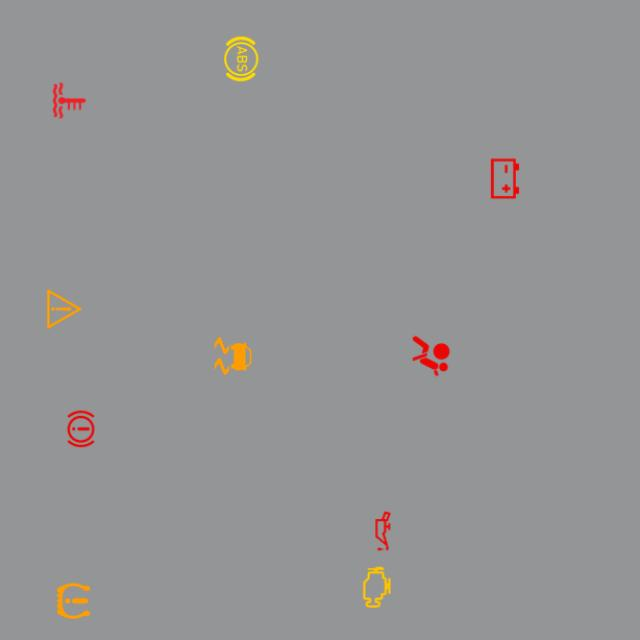Anti Lock Braking System: (217, 34, 266, 84)
Braking System Issue: (56, 404, 106, 454)
Charging System Issue: (480, 154, 530, 203)
Check Engine: (352, 563, 402, 612)
Electronic Stability Problem -ESP-: (208, 332, 258, 381)
Engine Overheating Warning Light: (45, 76, 94, 125)
Low Engine Oil Warning Light: (358, 506, 408, 556)
Low Tire Pressure Warning Light: (49, 576, 98, 626)
Master warning light: (40, 284, 89, 334)
SRS-Airbag: (406, 332, 456, 381)
